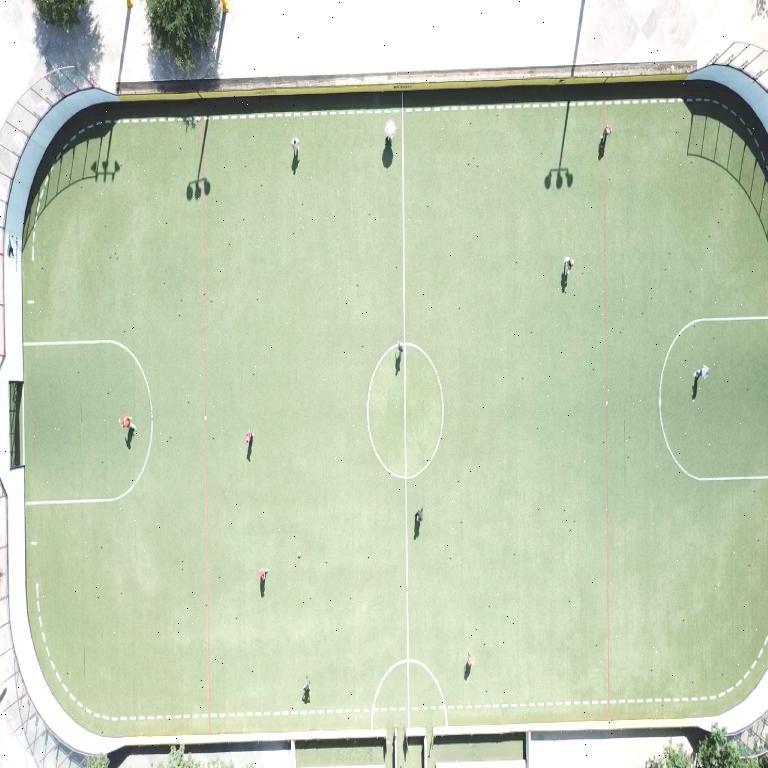AC: (659, 316, 768, 481), (27, 428, 152, 505), (23, 339, 152, 412)
B: (298, 553, 302, 558)
MC: (401, 94, 410, 726)
P: (385, 118, 395, 142), (120, 415, 135, 431), (693, 365, 708, 380), (563, 258, 573, 276), (602, 125, 612, 143), (302, 677, 309, 702), (291, 135, 298, 156), (259, 568, 268, 583), (415, 507, 422, 523), (468, 655, 475, 671), (247, 430, 253, 446), (398, 342, 404, 352)
